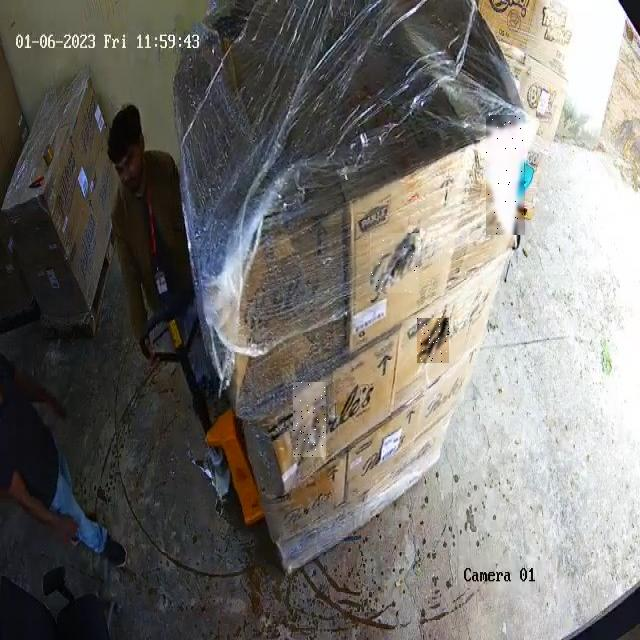leakage: (371, 234, 417, 292), (293, 382, 326, 456), (417, 318, 449, 362)
squeeze: (487, 115, 523, 235)
